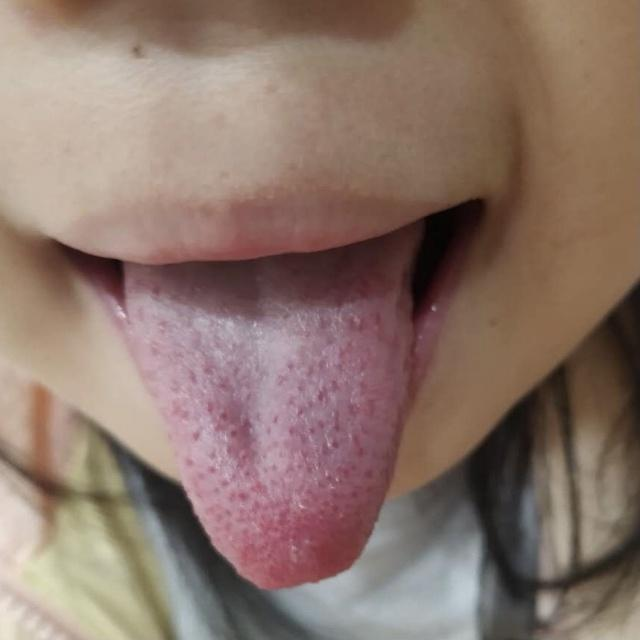baitaishe: (122, 268, 415, 590)
